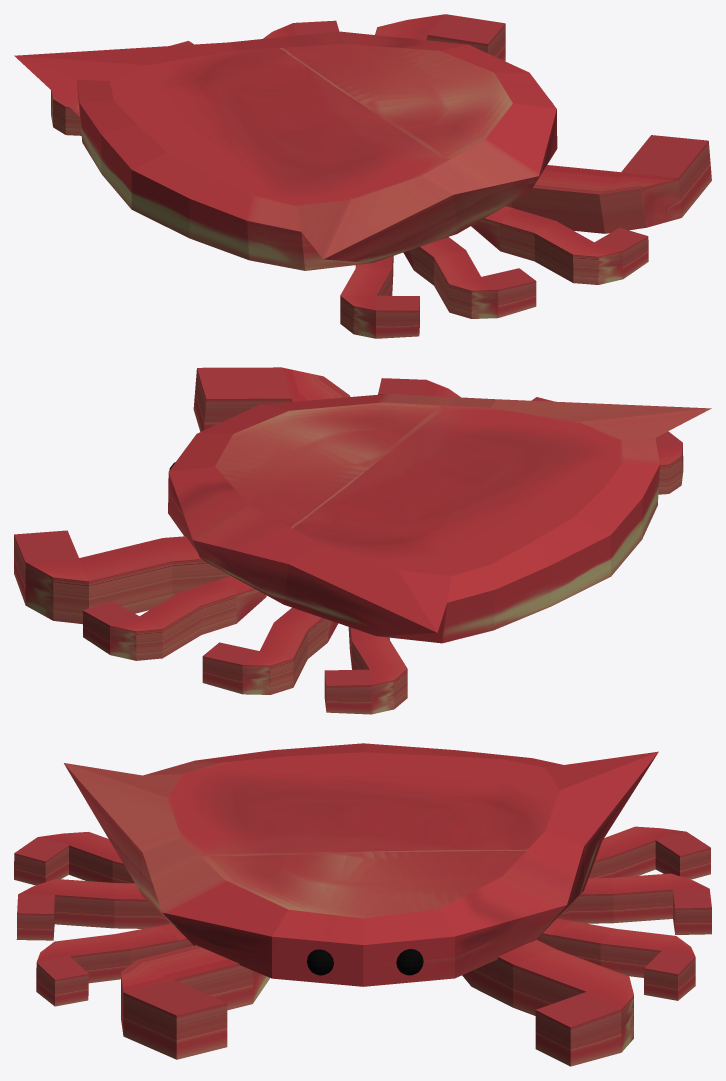
File: bettercrab 1.fbx
The picture shows the model from 3 angles, top to bottom: view 1: azimuth 30°, elevation 25°; view 2: azimuth 150°, elevation 25°; view 3: azimuth 270°, elevation 25°; orthographic projection. The views are drawn at different scales.
Parts seen in each view (by area): view 1: Crab; view 2: Crab; view 3: Crab, Sphere.001, Sphere.
Part boxes in pixels (x1,y1,x2,y2): Crab: [14, 14, 711, 338]; Crab: [14, 367, 711, 714]; Crab: [14, 743, 711, 1066]; Sphere.001: [396, 949, 423, 975]; Sphere: [307, 949, 333, 975].
Size of the model in its own units: 86.3 by 15.91 by 102.
Materials: 2 (1 with a texture image).
